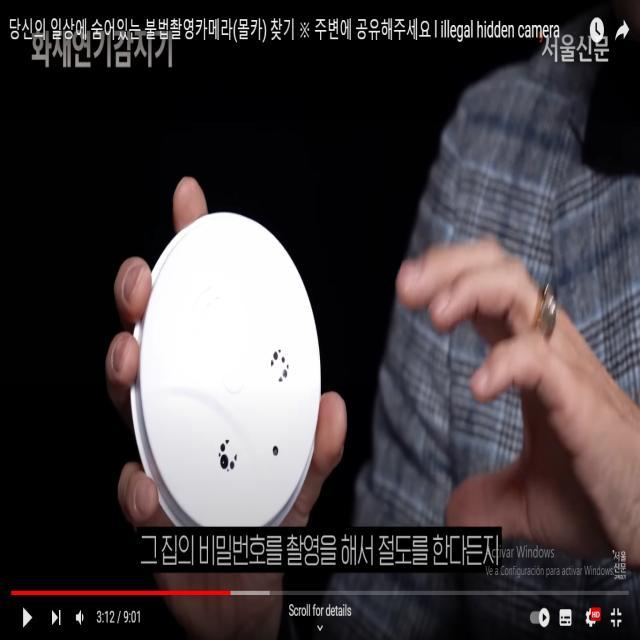hidden camera: (272, 443, 281, 460)
